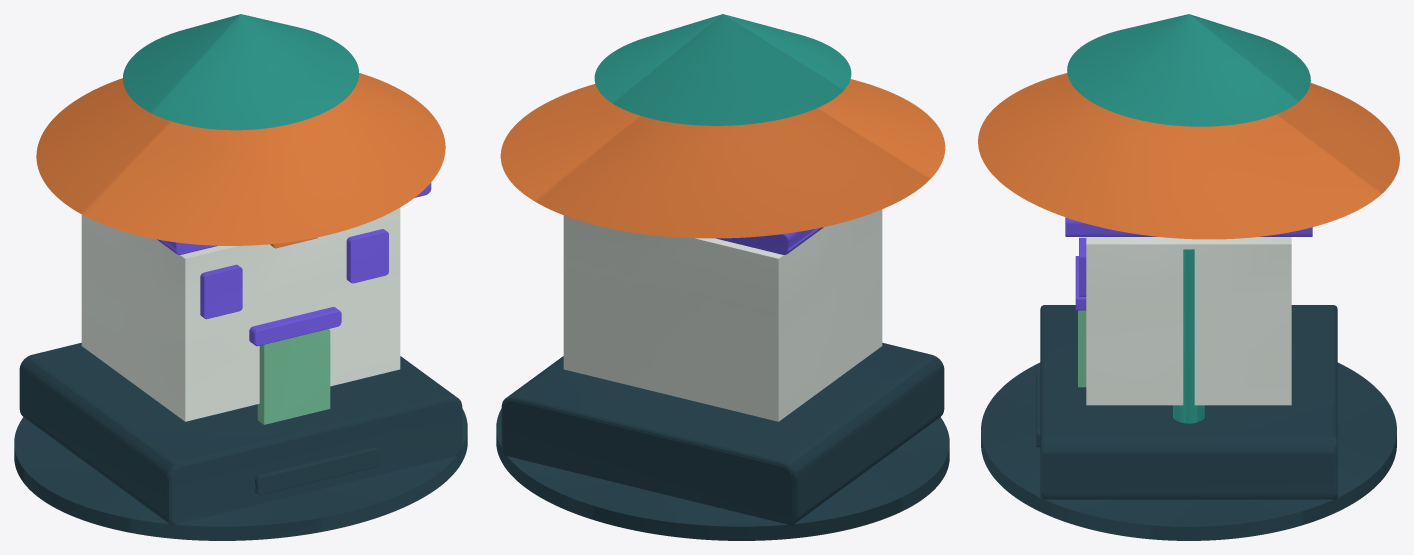
Rendered from 0762_先秦图鉴_都江堰.glb.
3 renders of one model, left to right at view 1: azimuth 30°, elevation 25°; view 2: azimuth 150°, elevation 25°; view 3: azimuth 270°, elevation 25°, orthographic.
Visible parts, largest first — view 1: card_0762; view 2: card_0762; view 3: card_0762.
Boxes of the visible parts, x1,y1,x2,y2 form: card_0762: (14,14,467,540); card_0762: (496,14,949,540); card_0762: (978,14,1399,540).
Size of the model in its own units: 0.9649 by 1 by 0.8887.
